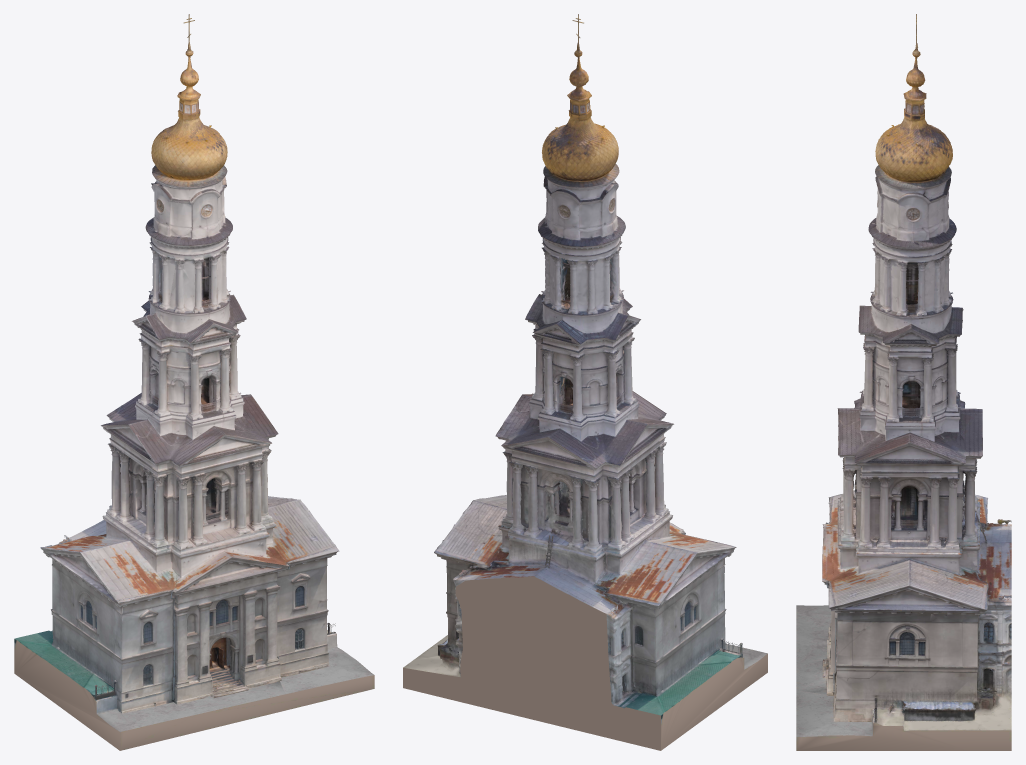
The model's file is Bell Tower of the Dormition Cathedral.glb.
The picture shows the model from 3 angles, left to right: view 1: azimuth 30°, elevation 25°; view 2: azimuth 150°, elevation 25°; view 3: azimuth 270°, elevation 25°; orthographic projection.
Visible parts, largest first — view 1: default_38_dzvinitsia_texture_2_0, default_38_dzvinitsia_texture_2_0.001; view 2: default_38_dzvinitsia_texture_2_0, default_38_dzvinitsia_texture_2_0.001; view 3: default_38_dzvinitsia_texture_2_0, default_38_dzvinitsia_texture_2_0.001.
Part boxes in pixels (<box>): default_38_dzvinitsia_texture_2_0: <box>14,14,374,750</box>; default_38_dzvinitsia_texture_2_0.001: <box>28,36,371,750</box>; default_38_dzvinitsia_texture_2_0: <box>403,14,767,750</box>; default_38_dzvinitsia_texture_2_0.001: <box>434,34,742,704</box>; default_38_dzvinitsia_texture_2_0: <box>796,14,1011,750</box>; default_38_dzvinitsia_texture_2_0.001: <box>822,49,1011,729</box>.
Size of the model in its own units: 12.63 by 31.38 by 9.09.
Materials: 1 (1 with a texture image).
